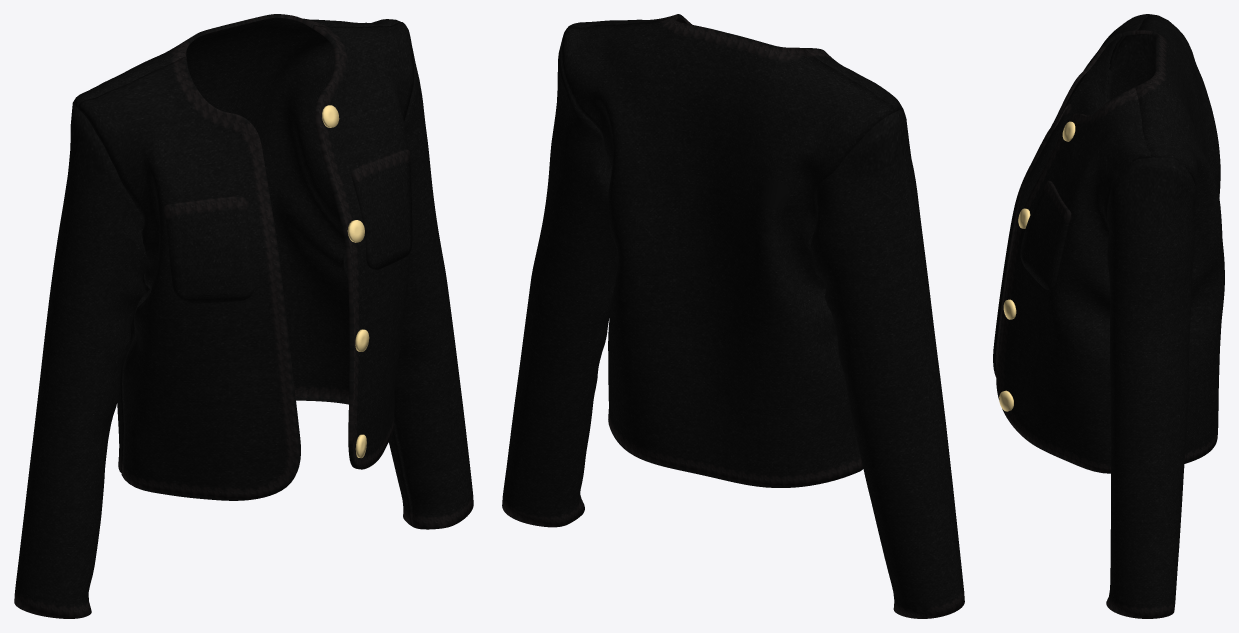
Rendered from jacket_model.glb.
The picture shows the model from 3 angles, left to right: view 1: azimuth 30°, elevation 25°; view 2: azimuth 150°, elevation 25°; view 3: azimuth 270°, elevation 25°; orthographic projection. The views are drawn at different scales.
Parts seen in each view (by area): view 1: 0RetopoMain.001; view 2: 0RetopoMain.001; view 3: 0RetopoMain.001.
Boxes of the visible parts, bbox=[...] form: 0RetopoMain.001: bbox=[14, 14, 473, 618]; 0RetopoMain.001: bbox=[502, 14, 964, 618]; 0RetopoMain.001: bbox=[993, 14, 1224, 618].
Bounding box in the file's own units: 1.29 × 1.46 × 0.6418.
Materials: 2 (2 with a texture image).
